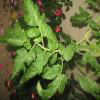Tomato mold leaf: (36, 64, 68, 97), (10, 46, 36, 81), (22, 0, 48, 28), (0, 20, 26, 47), (77, 74, 99, 97), (46, 25, 60, 50), (81, 52, 99, 70), (63, 41, 76, 62), (25, 27, 41, 40)
